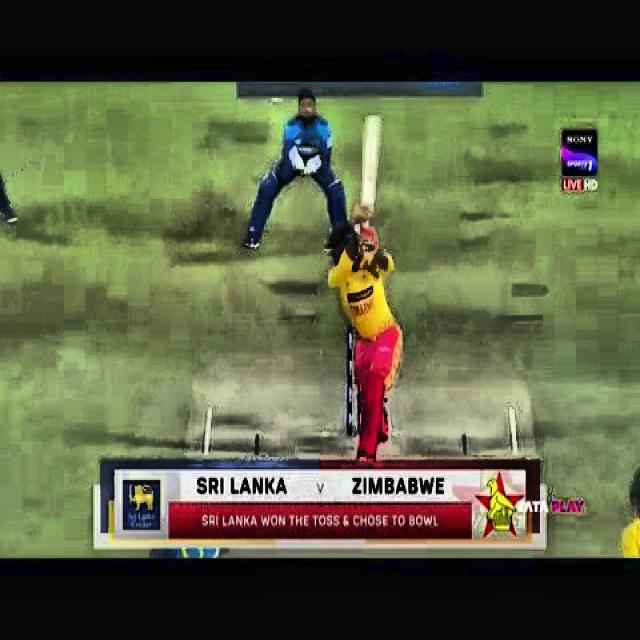Left-stump: (346, 331, 352, 440)
